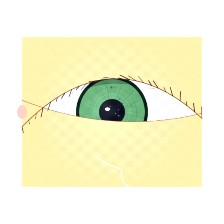foreign_body_visible: (94, 131, 121, 153)
